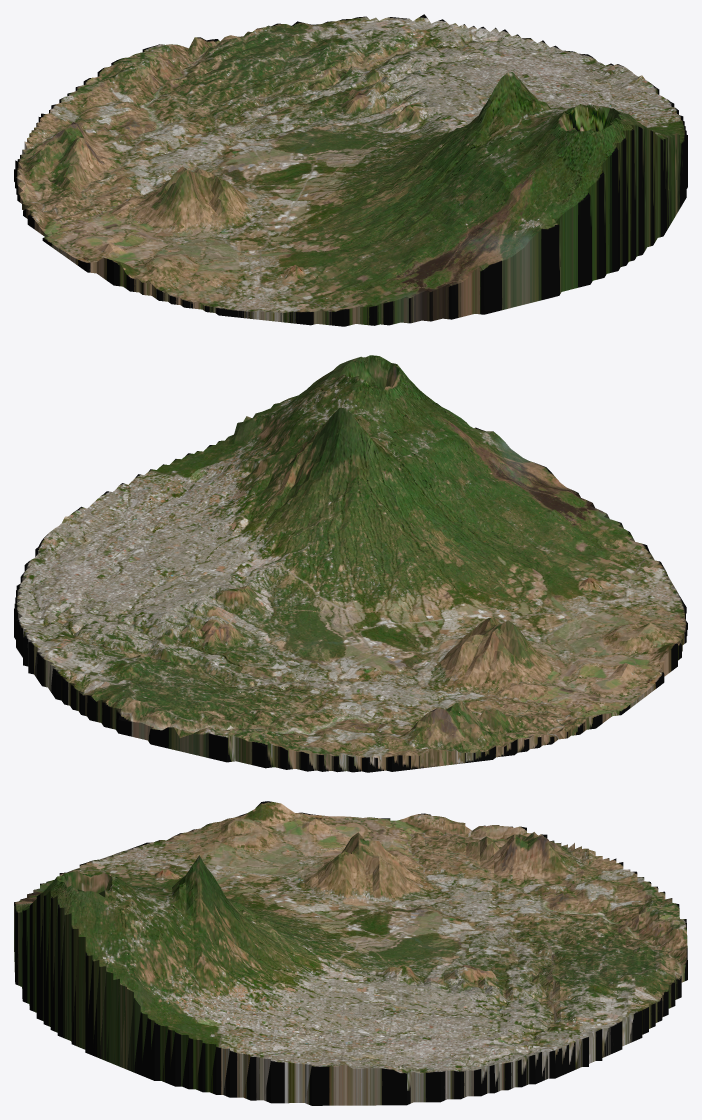
File: terreno_juego_13_f.glb
3 renders of one model, top to bottom at view 1: azimuth 30°, elevation 25°; view 2: azimuth 150°, elevation 25°; view 3: azimuth 270°, elevation 25°, orthographic.
Parts seen in each view (by area): view 1: Plane; view 2: Plane; view 3: Plane.
Boxes of the visible parts, x1,y1,x2,y2 form: Plane: (14, 14, 687, 326); Plane: (14, 355, 687, 772); Plane: (14, 801, 687, 1105).
Size of the model in its own units: 9822 by 2382 by 9822.
Materials: 1 (1 with a texture image).
